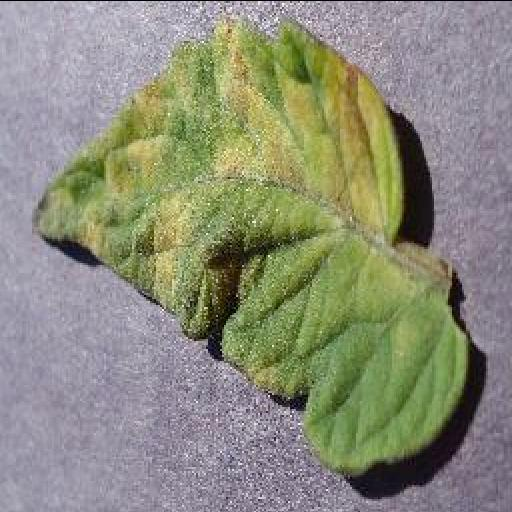disease_tomato: (30, 14, 470, 468)
